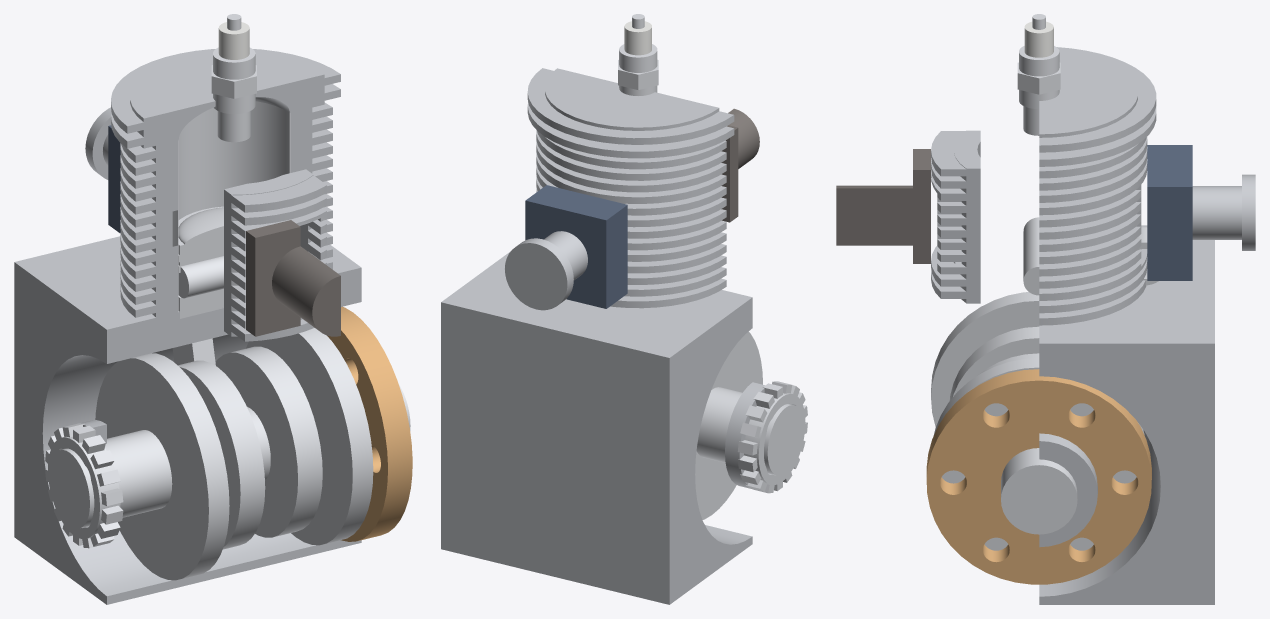
Rendered from engine-2s.glb.
3 renders of one model, left to right at view 1: azimuth 30°, elevation 25°; view 2: azimuth 150°, elevation 25°; view 3: azimuth 270°, elevation 25°, orthographic. The views are drawn at different scales.
Parts seen in each view (by area): view 1: case, discs, block, webs, head, rotor, exhaust, liner, crank, gear, plug, piston (+5 smaller); view 2: case, block, head, reed, carb, crank, gear, discs, exhaust, plug, ceramic; view 3: case, rotor, block, head, discs, exhaust, reed, crank, carb, plug, webs, wristpin (+1 smaller).
Part boxes in pixels (x1=…): case: x1=14, y1=236, x2=361, y2=604; discs: x1=95, y1=328, x2=373, y2=580; block: x1=120, y1=102, x2=332, y2=341; webs: x1=178, y1=346, x2=322, y2=549; head: x1=111, y1=49, x2=340, y2=148; rotor: x1=327, y1=306, x2=412, y2=541; exhaust: x1=246, y1=220, x2=340, y2=336; liner: x1=172, y1=101, x2=290, y2=312; crank: x1=49, y1=385, x2=410, y2=528; gear: x1=45, y1=423, x2=123, y2=548; plug: x1=211, y1=14, x2=256, y2=142; piston: x1=178, y1=206, x2=223, y2=318; case: x1=441, y1=251, x2=764, y2=604; block: x1=536, y1=130, x2=726, y2=308; head: x1=527, y1=68, x2=734, y2=158; reed: x1=525, y1=185, x2=627, y2=308; carb: x1=505, y1=231, x2=587, y2=310; crank: x1=696, y1=387, x2=803, y2=475; gear: x1=737, y1=381, x2=807, y2=493; discs: x1=695, y1=331, x2=762, y2=519; exhaust: x1=721, y1=108, x2=759, y2=222; plug: x1=618, y1=14, x2=658, y2=95; ceramic: x1=624, y1=21, x2=651, y2=55; case: x1=1039, y1=225, x2=1214, y2=604; rotor: x1=926, y1=369, x2=1151, y2=584; block: x1=931, y1=130, x2=1147, y2=325; head: x1=1039, y1=47, x2=1156, y2=166; discs: x1=931, y1=292, x2=1144, y2=550; exhaust: x1=836, y1=149, x2=930, y2=263; reed: x1=1147, y1=145, x2=1192, y2=280; crank: x1=1001, y1=448, x2=1077, y2=534; carb: x1=1192, y1=174, x2=1255, y2=250; plug: x1=1017, y1=14, x2=1060, y2=135; webs: x1=949, y1=326, x2=1039, y2=400; wristpin: x1=1023, y1=217, x2=1039, y2=295.
Size of the model in its own units: 0.156 by 0.259 by 0.186.
